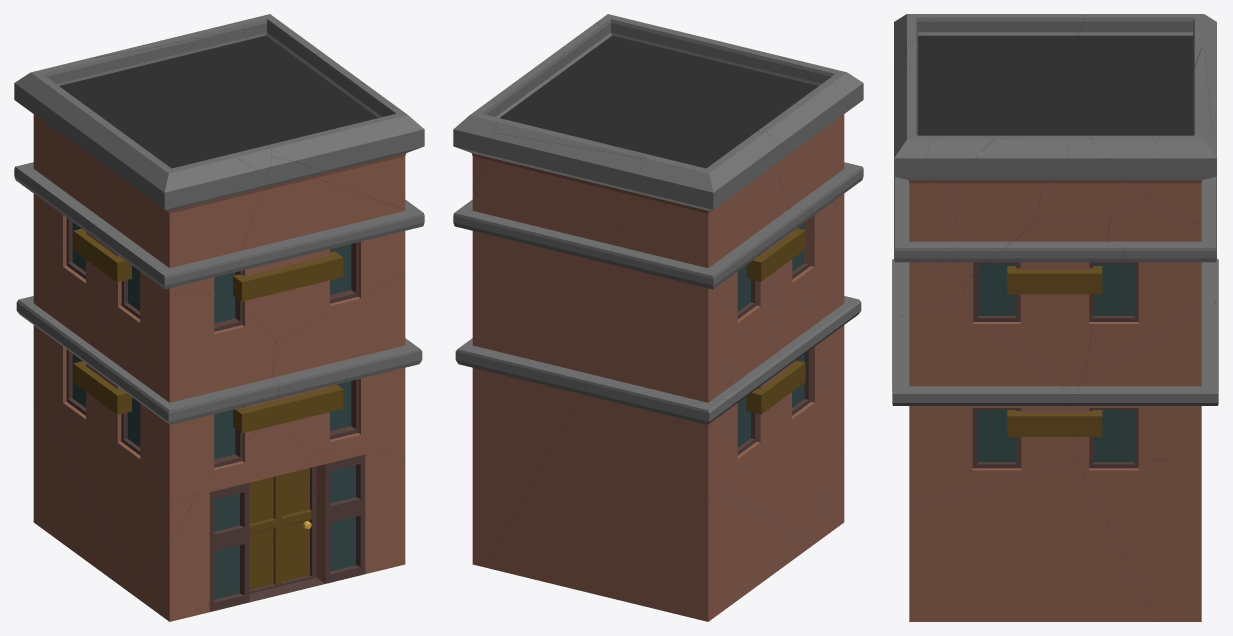
Rendered from Edificio_02.fbx.
3 views of the same model, side by side, from view 1: azimuth 30°, elevation 25°; view 2: azimuth 150°, elevation 25°; view 3: azimuth 270°, elevation 25° (orthographic). The views are drawn at different scales.
Visible parts, largest first — view 1: edificio_02_cell.002, edificio_02_cell.006, edificio_02_cell.015, edificio_02_cell.019, edificio_02_cell.014, edificio_02_cell.026, edificio_02_cell.024, edificio_02_cell, edificio_02_cell.029, edificio_02.001, edificio_02_cell.001, edificio_02_cell.008 (+13 smaller); view 2: edificio_02_cell.007, edificio_02_cell.026, edificio_02_cell.001, edificio_02_cell.002, edificio_02_cell.011, edificio_02_cell.008, edificio_02_cell.003, edificio_02_cell.021, edificio_02_cell.024, edificio_02_cell.027, edificio_02_cell, edificio_02_cell.006 (+12 smaller); view 3: edificio_02_cell.029, edificio_02_cell.019, edificio_02_cell.003, edificio_02_cell.021, edificio_02_cell.005, edificio_02_cell.023, edificio_02_cell.002, edificio_02_cell, edificio_02_cell.004, edificio_02_cell.001, edificio_02_cell.026, edificio_02_cell.010 (+10 smaller).
Part boxes in pixels (box(x1,y1,x2,y2)): edificio_02_cell.002: box(82, 97, 272, 296); edificio_02_cell.006: box(133, 292, 279, 503); edificio_02_cell.015: box(226, 157, 424, 341); edificio_02_cell.019: box(268, 272, 422, 456); edificio_02_cell.014: box(137, 425, 312, 621); edificio_02_cell.026: box(14, 57, 159, 285); edificio_02_cell.024: box(55, 405, 197, 593); edificio_02_cell: box(251, 106, 424, 210); edificio_02_cell.029: box(304, 454, 405, 573); edificio_02.001: box(73, 228, 343, 433); edificio_02_cell.001: box(96, 29, 258, 99); edificio_02_cell.008: box(33, 405, 135, 596); edificio_02_cell.007: box(486, 351, 712, 593); edificio_02_cell.026: box(607, 131, 806, 317); edificio_02_cell.001: box(472, 110, 663, 289); edificio_02_cell.002: box(655, 47, 863, 239); edificio_02_cell.011: box(589, 270, 745, 427); edificio_02_cell.008: box(595, 493, 809, 621); edificio_02_cell.003: box(472, 332, 605, 567); edificio_02_cell.021: box(455, 271, 597, 413); edificio_02_cell.024: box(729, 369, 844, 544); edificio_02_cell.027: box(713, 276, 783, 497); edificio_02_cell: box(597, 14, 744, 85); edificio_02_cell.006: box(802, 194, 861, 404); edificio_02_cell.029: box(909, 462, 1155, 621); edificio_02_cell.019: box(892, 302, 1077, 505); edificio_02_cell.003: box(1077, 322, 1218, 621); edificio_02_cell.021: box(1070, 307, 1218, 460); edificio_02_cell.005: box(962, 216, 1124, 398); edificio_02_cell.023: box(1084, 202, 1216, 380); edificio_02_cell.002: box(894, 14, 1113, 92); edificio_02_cell: box(894, 67, 984, 287); edificio_02_cell.004: box(926, 131, 1065, 271); edificio_02_cell.001: box(1093, 47, 1216, 238); edificio_02_cell.026: box(1077, 14, 1216, 76); edificio_02_cell.010: box(1036, 119, 1147, 221).
Bounding box in the file's own units: 960 × 1585 × 970.
